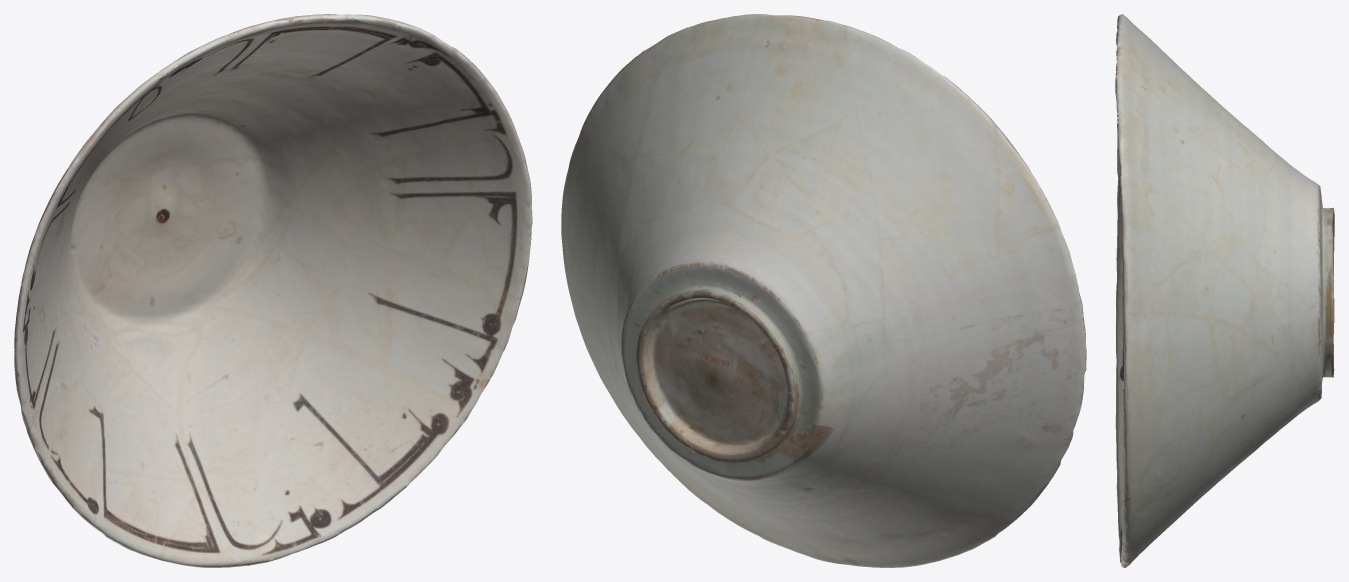
File: preview.glb
3 renders of one model, left to right at view 1: azimuth 30°, elevation 25°; view 2: azimuth 150°, elevation 25°; view 3: azimuth 270°, elevation 25°, orthographic. The views are drawn at different scales.
Visible parts, largest first — view 1: ADVIMG_65_106_2_BowlWithArabicInscription_LOW__n3d; view 2: ADVIMG_65_106_2_BowlWithArabicInscription_LOW__n3d; view 3: ADVIMG_65_106_2_BowlWithArabicInscription_LOW__n3d.
Boxes of the visible parts, box(x1,y1,x2,y2) form: ADVIMG_65_106_2_BowlWithArabicInscription_LOW__n3d: box(14, 14, 532, 567); ADVIMG_65_106_2_BowlWithArabicInscription_LOW__n3d: box(561, 14, 1086, 567); ADVIMG_65_106_2_BowlWithArabicInscription_LOW__n3d: box(1115, 14, 1334, 567).
Size of the model in its own units: 0.4593 by 0.4553 by 0.1812.
Materials: 1 (1 with a texture image).
